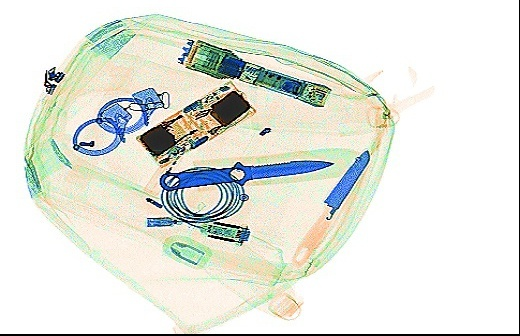handcuffs: (69, 85, 170, 157)
knife: (288, 148, 371, 267), (156, 158, 335, 192)
lighter: (141, 140, 186, 197)
